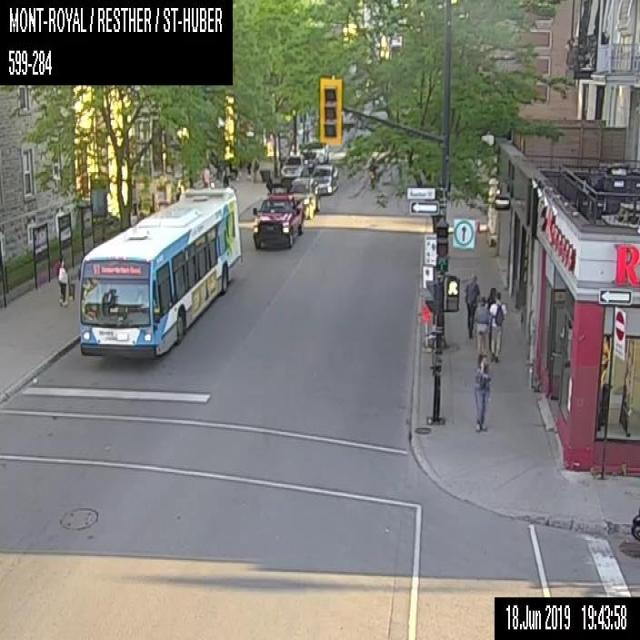bus: (78, 188, 241, 358)
pedestrian: (473, 352, 493, 432), (488, 291, 506, 362), (464, 273, 479, 337), (475, 296, 488, 354), (487, 287, 498, 349), (56, 255, 67, 305), (201, 165, 210, 185), (245, 158, 252, 180), (253, 158, 258, 181), (222, 171, 228, 185)
vehicle: (252, 193, 303, 249), (286, 176, 320, 217), (309, 164, 338, 193), (280, 154, 309, 178), (302, 140, 328, 162), (302, 152, 316, 171)
